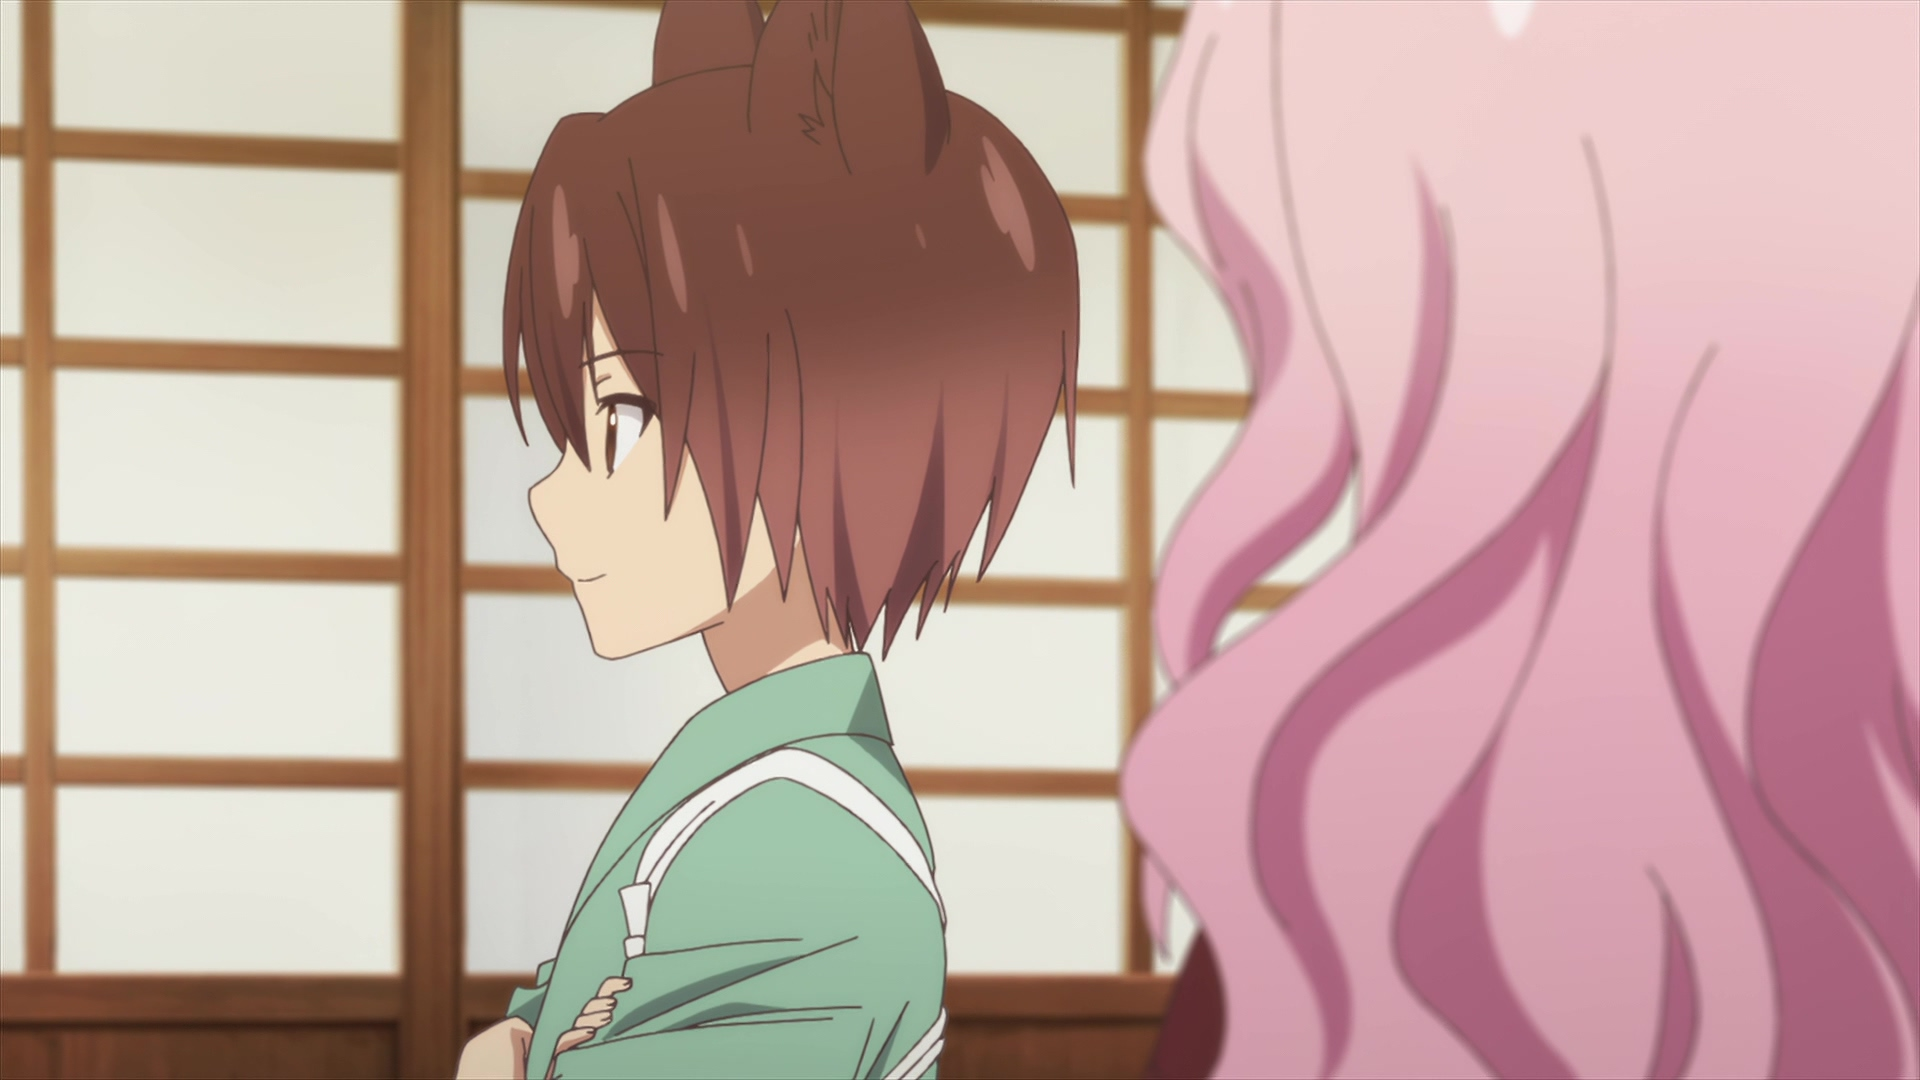枣: (460, 1, 1077, 1080)
莲: (1118, 1, 1920, 1080)
